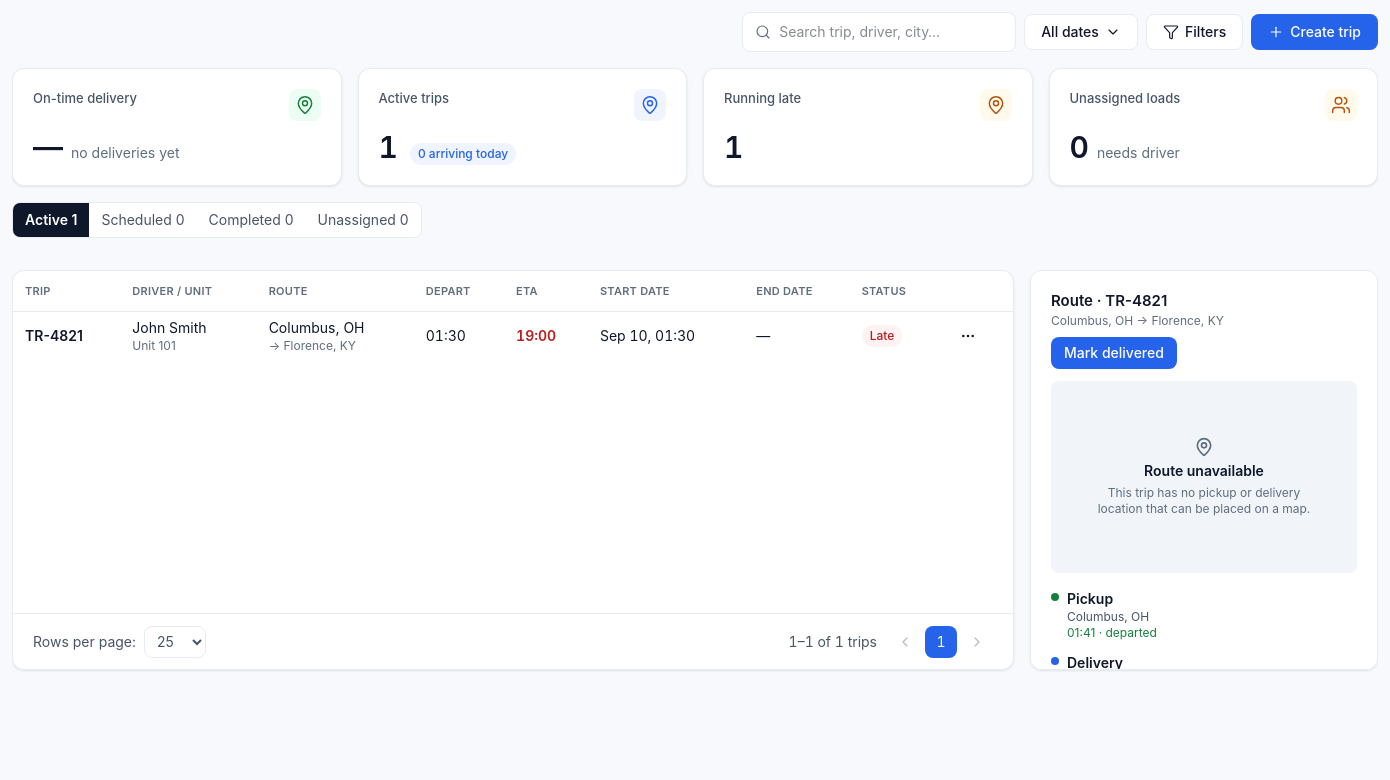
Test: W-11 Dispatch & Trips › Auto-assign reports what it did, without an invented HOS reason (CODE-055)
The image size is (1390, 780).
Check: the text "TR-4821" is shown, box [25, 326, 83, 344]
Click the button "Unassigned 0" at (363, 220), box [306, 203, 421, 237]
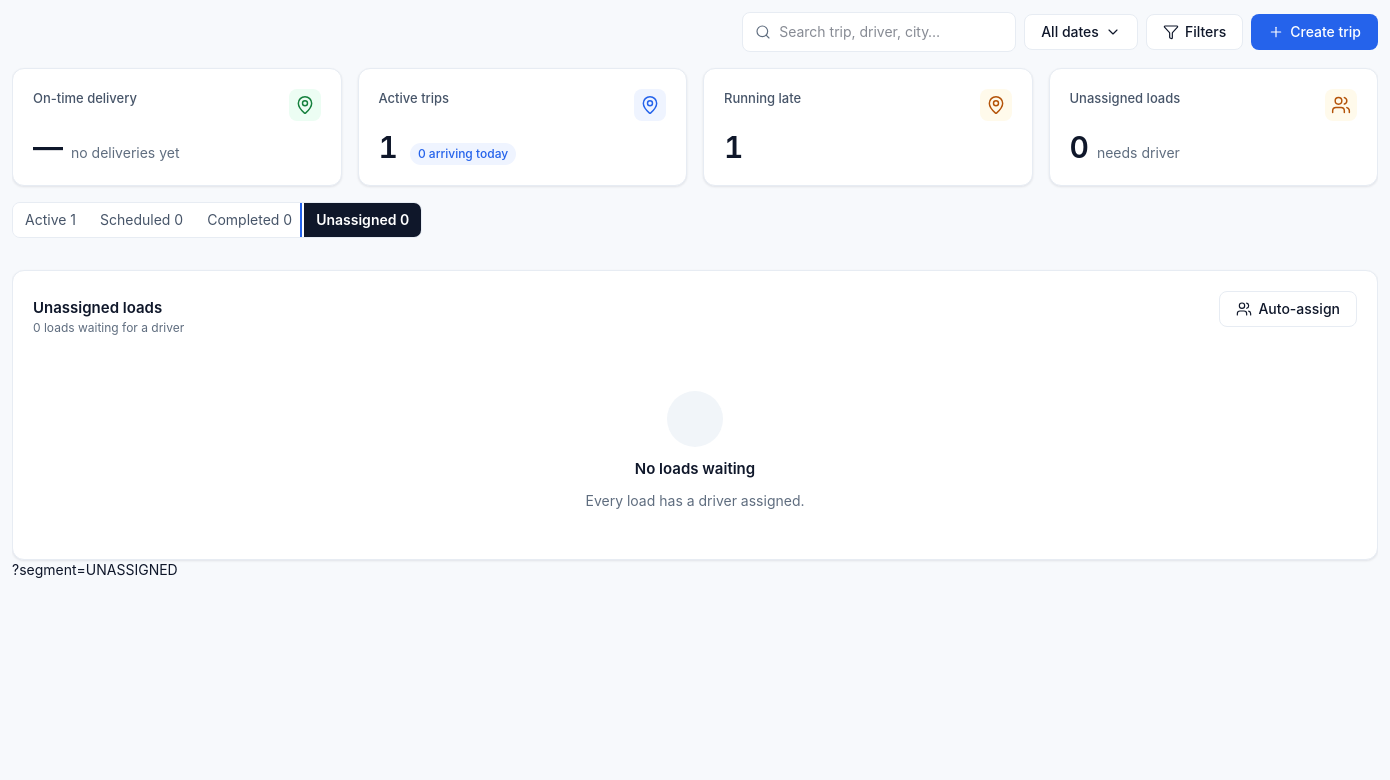
Click the button "Auto-assign" at (1288, 309), box [1219, 291, 1357, 327]
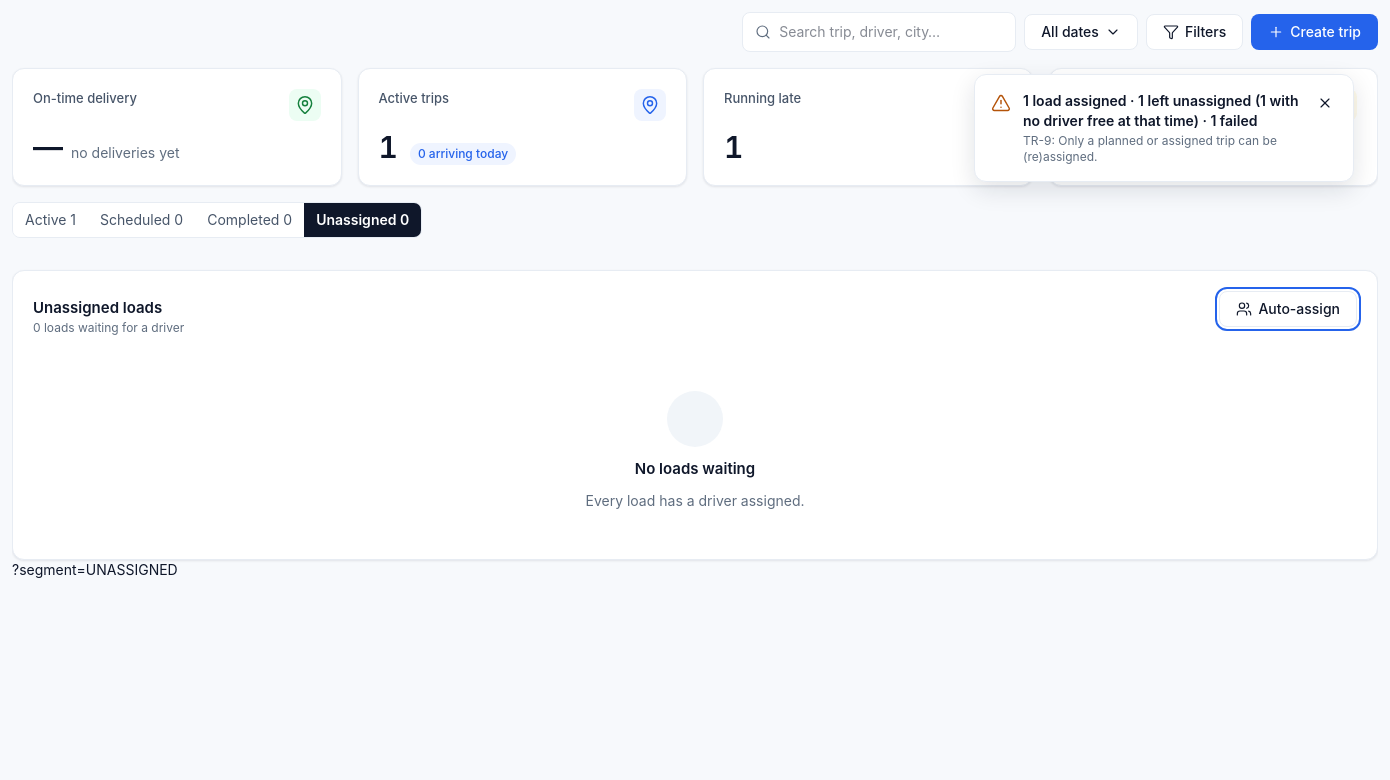
Check: the text "1 load assigned · 1 left unassigned (1 with no driver free at that time) · 1 failed" is shown, box [1023, 92, 1298, 129]
Check: the text "TR-9: Only a planned or assigned trip can be (re)assigned." is shown, box [1023, 133, 1301, 165]
